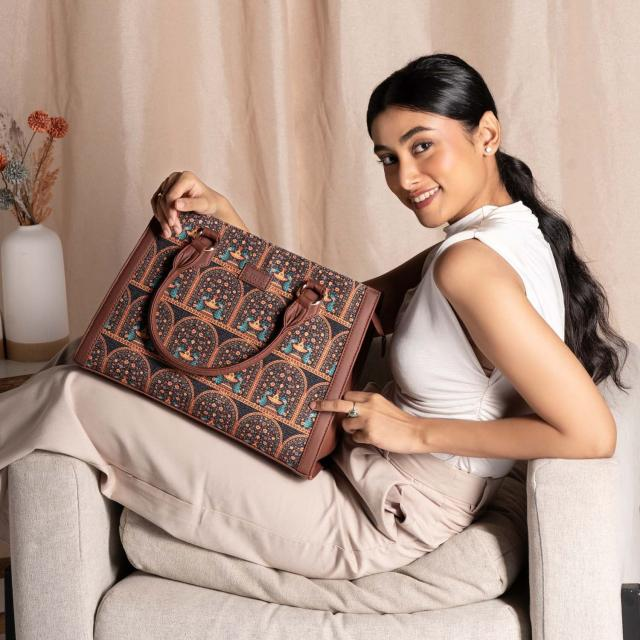handbag: (72, 209, 386, 481)
